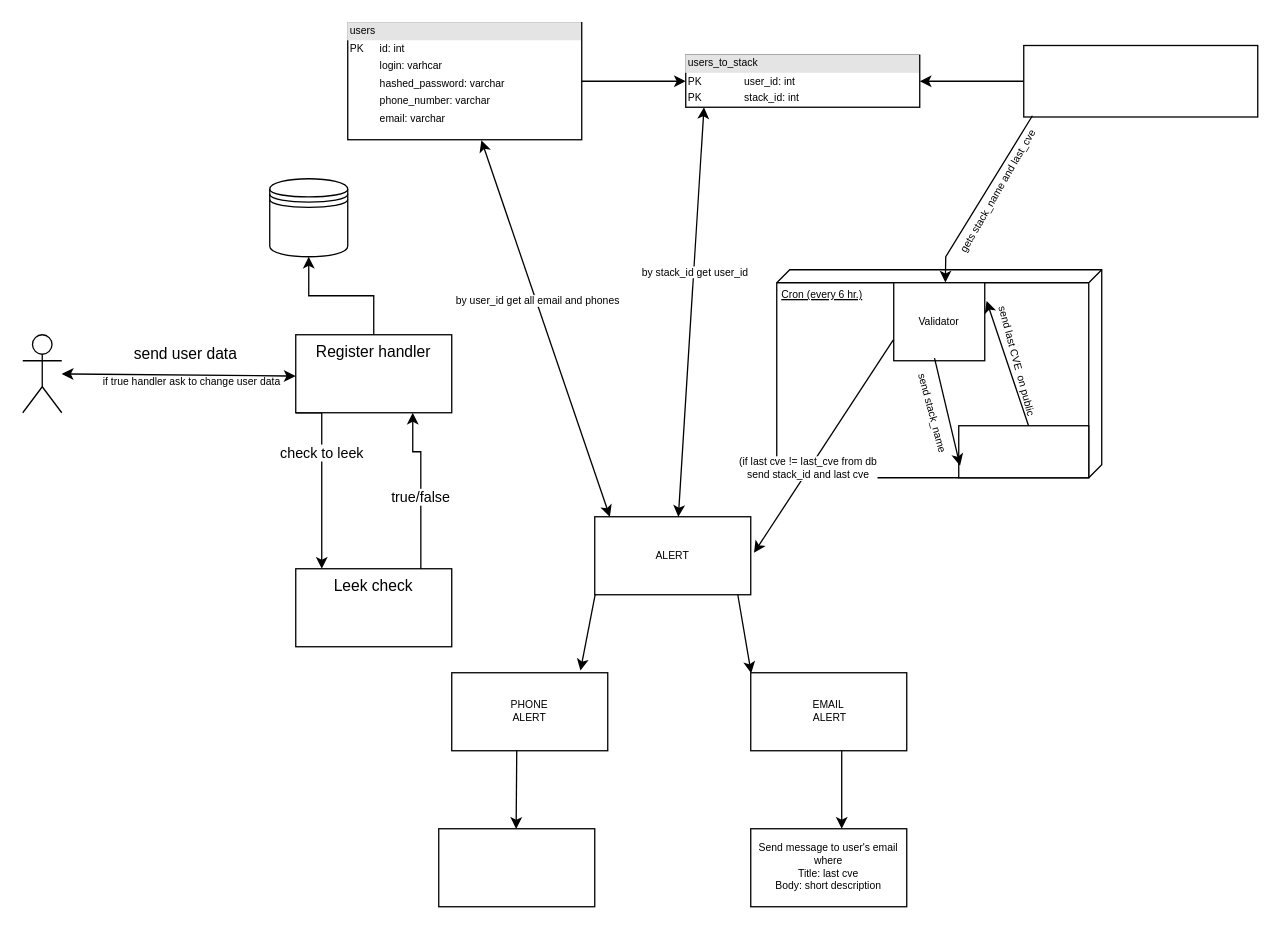
Image size: 1281x929. Some labels were removed from this diagram. The shapes that lost their labels are listed below. From the top down, each one's centre as x and y in pixels, then its label:
point (1140, 80): stack PK id: int last_cve: varchar stack_name: varhcar
point (308, 217): database
point (41, 373): User
point (1023, 451): CVE PARSER
point (516, 867): By using robot text to speech robot warning about CVE (says to check email)
